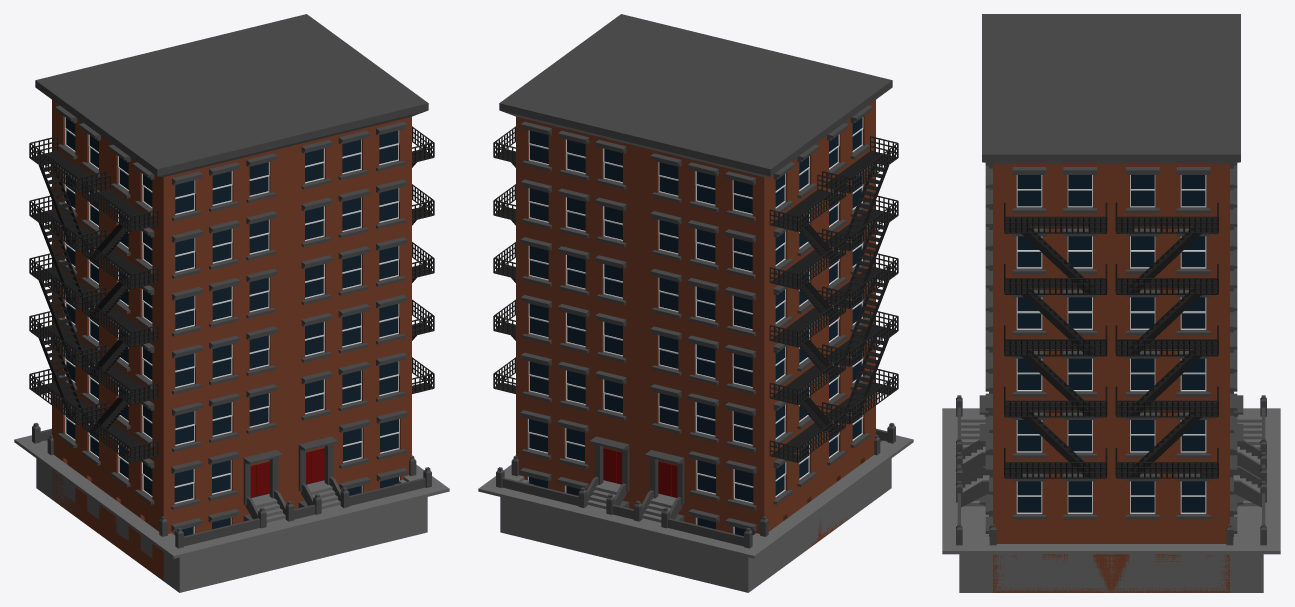
Rendered from 2x2_Residential_6_Storey_Apartment_b.fbx.
3 renders of one model, left to right at view 1: azimuth 30°, elevation 25°; view 2: azimuth 150°, elevation 25°; view 3: azimuth 270°, elevation 25°, orthographic. The views are drawn at different scales.
Parts seen in each view (by area): view 1: 2x2 Residential 6_Storey_Apartment b; view 2: 2x2 Residential 6_Storey_Apartment b; view 3: 2x2 Residential 6_Storey_Apartment b.
Part boxes in pixels (box(x1,y1,x2,y2)): 2x2 Residential 6_Storey_Apartment b: box(14, 14, 449, 592); 2x2 Residential 6_Storey_Apartment b: box(478, 14, 913, 592); 2x2 Residential 6_Storey_Apartment b: box(942, 14, 1280, 592).
Size of the model in its own units: 2.21 by 2.9 by 2.
